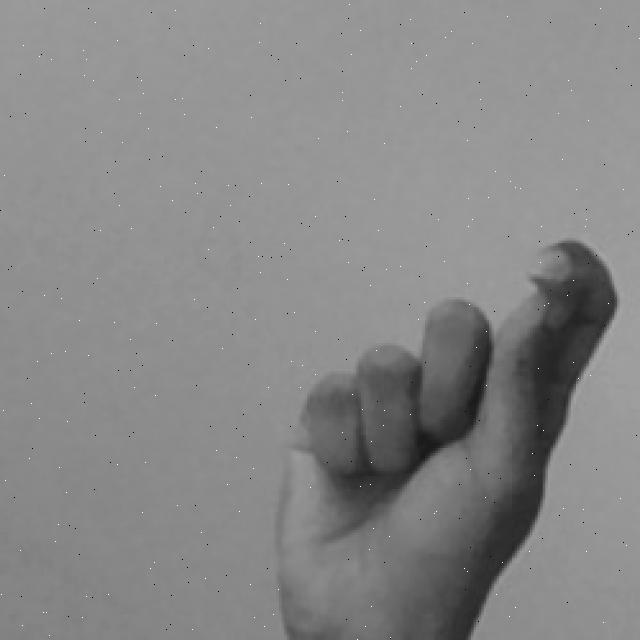T: (264, 235, 622, 640)
